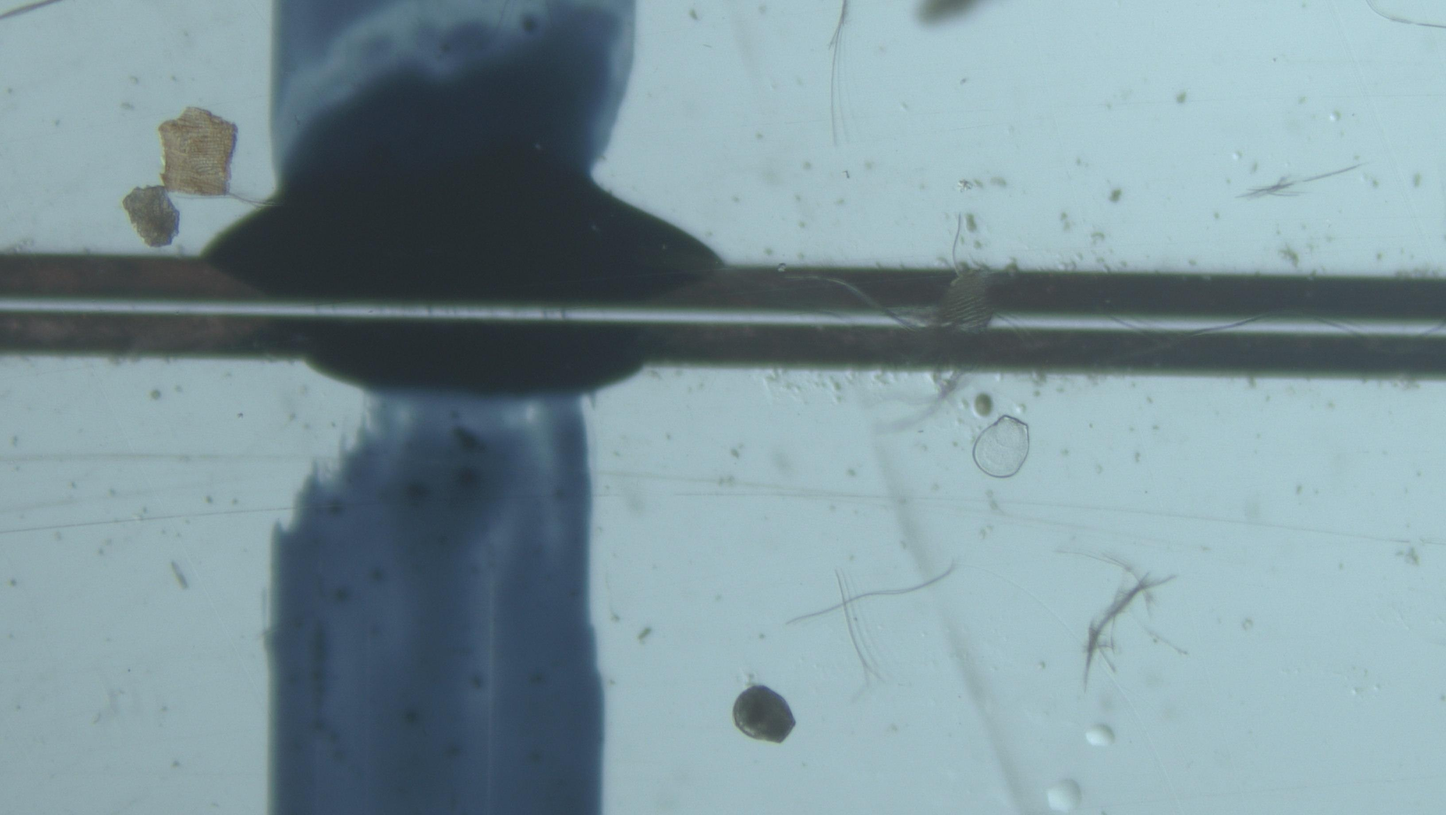dead: (974, 415, 1030, 478)
live: (733, 685, 796, 743)
